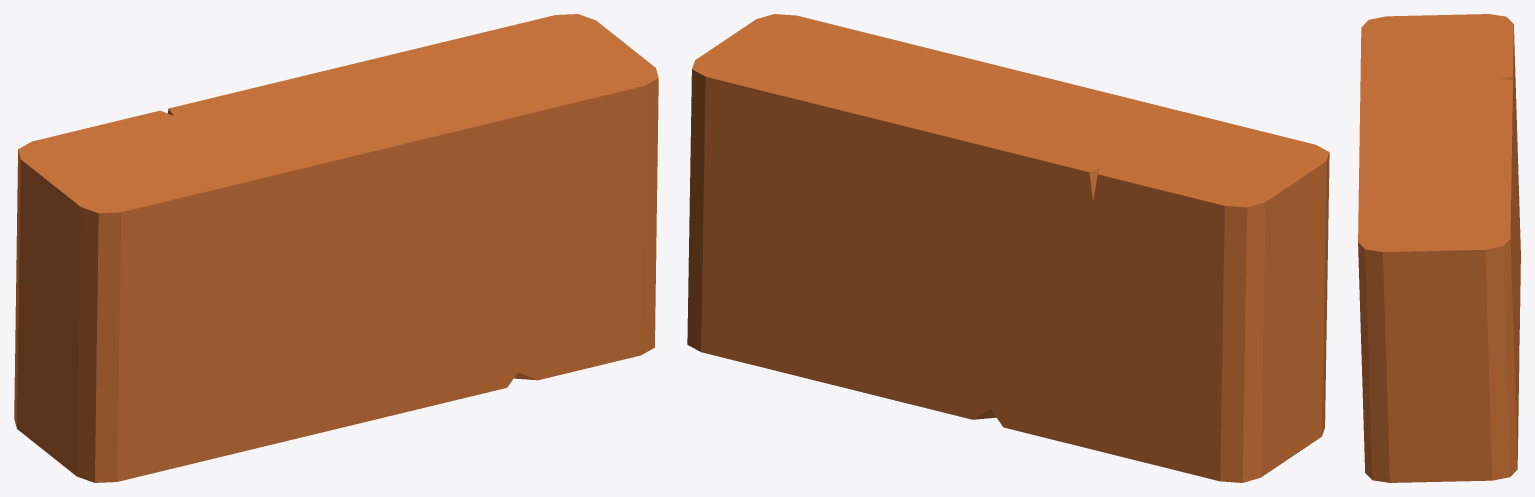
File: brick_001.fbx
3 renders of one model, left to right at view 1: azimuth 30°, elevation 25°; view 2: azimuth 150°, elevation 25°; view 3: azimuth 270°, elevation 25°, orthographic. The views are drawn at different scales.
Parts seen in each view (by area): view 1: brick.001; view 2: brick.001; view 3: brick.001.
Boxes of the visible parts, left/top/right/bottom form: brick.001: left=14, top=14, right=658, bottom=482; brick.001: left=687, top=14, right=1329, bottom=482; brick.001: left=1358, top=14, right=1520, bottom=482.
Size of the model in its own units: 141 by 65.09 by 40.89.
